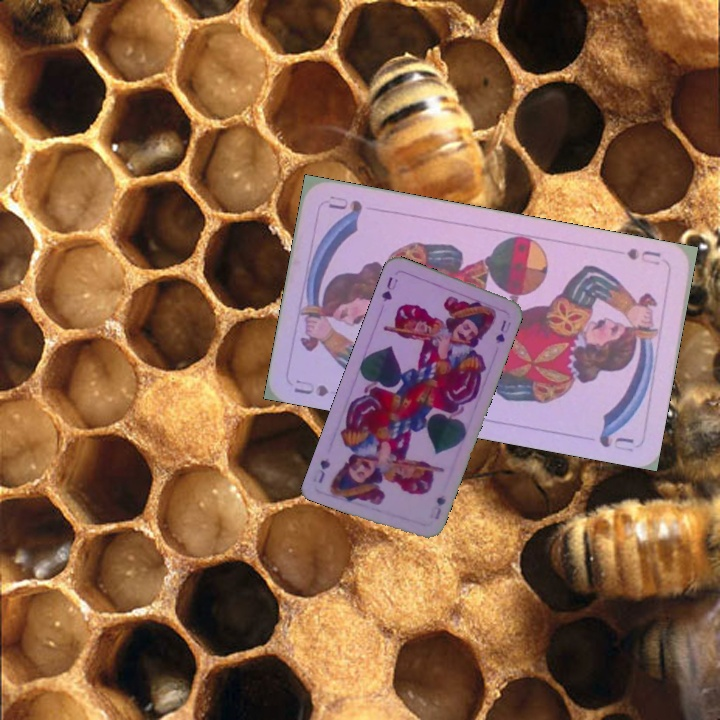GU: (377, 273, 401, 305), (426, 491, 449, 522)
SU: (290, 375, 331, 399), (622, 244, 663, 268)
